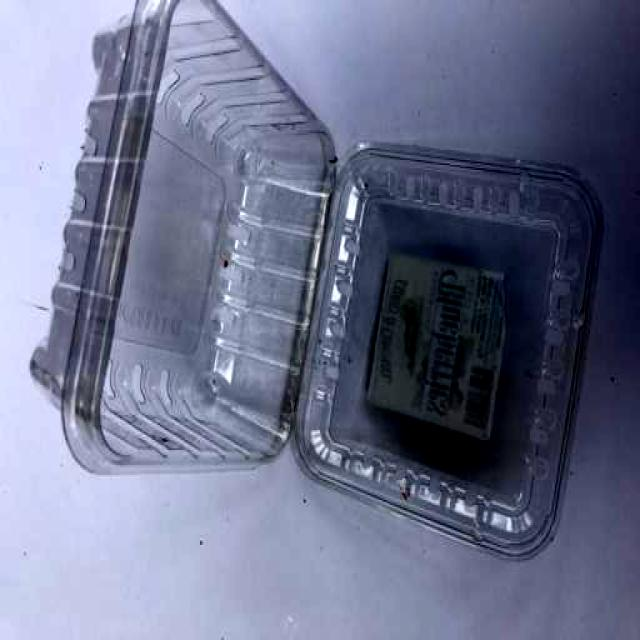Plastic: (21, 0, 610, 575)
